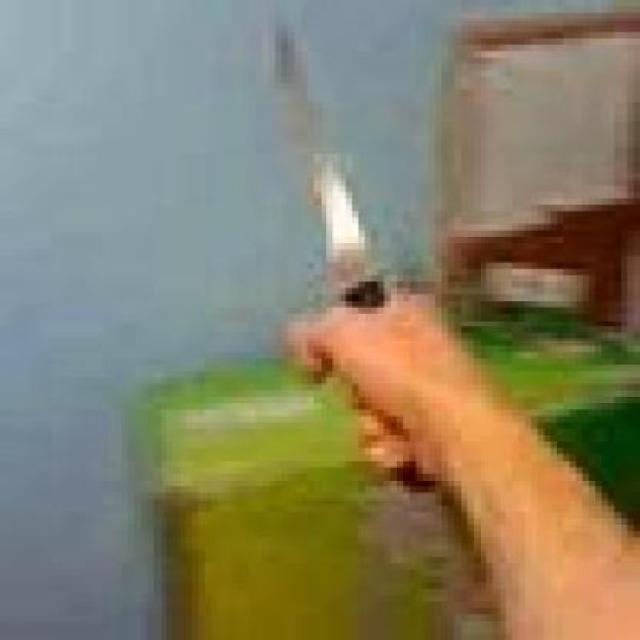knife: (278, 33, 438, 499)
